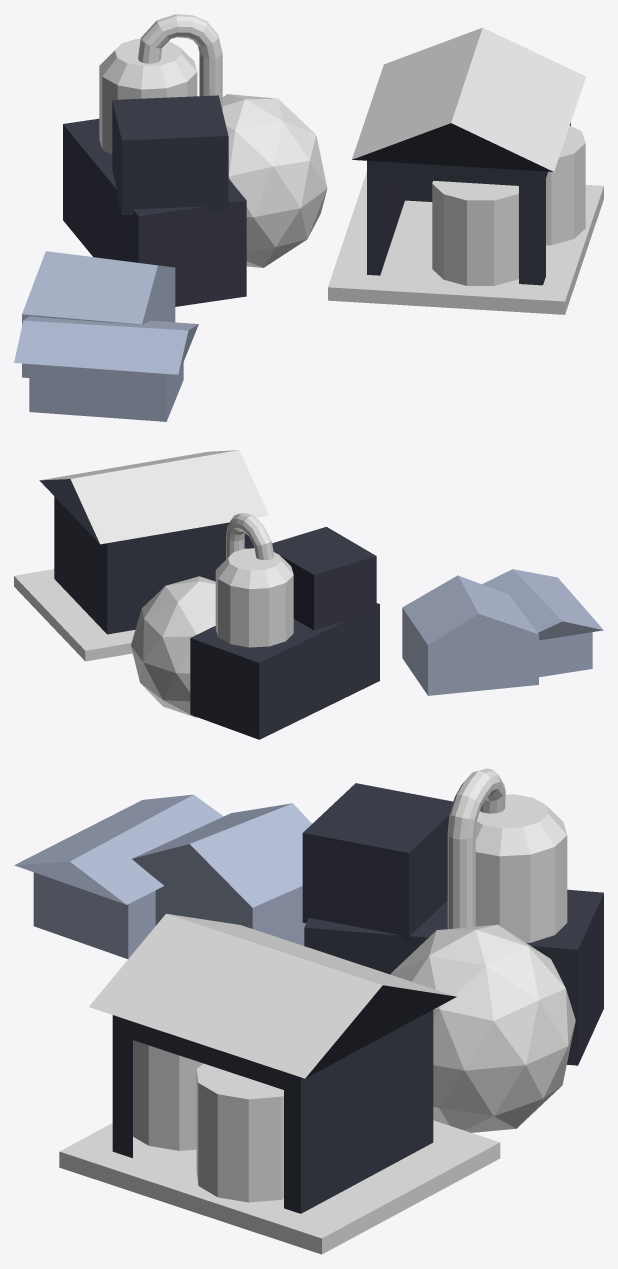
The model's file is lab.glb.
3 renders of one model, top to bottom at view 1: azimuth 30°, elevation 25°; view 2: azimuth 150°, elevation 25°; view 3: azimuth 270°, elevation 25°, orthographic. The views are drawn at different scales.
Parts seen in each view (by area): view 1: Cube.024, Cube.023, Cube.025, Cube.027, Cube.026, Icosphere, Cube.022, Cylinder.004, Cylinder.001, Cylinder.005, Cylinder.002; view 2: Cube.024, Cube.023, Cube.022, Cube.026, Icosphere, Cylinder.001, Cube.025, Cube.027, Cylinder.002; view 3: Cube.024, Icosphere, Cube.027, Cube.026, Cube.025, Cube.022, Cylinder.001, Cube.023, Cylinder.005, Cylinder.004, Cylinder.002.
Part boxes in pixels (x1,y1,x2,y2): Cube.024: (352, 27, 585, 285); Cube.023: (63, 118, 246, 306); Cube.025: (14, 316, 198, 421); Cube.027: (328, 172, 603, 314); Cube.026: (112, 95, 228, 214); Icosphere: (222, 94, 327, 267); Cube.022: (22, 251, 175, 377); Cylinder.004: (432, 180, 518, 285); Cylinder.001: (99, 38, 197, 154); Cylinder.005: (546, 126, 585, 245); Cylinder.002: (138, 14, 222, 110); Cube.024: (39, 450, 268, 634); Cube.023: (190, 603, 379, 739); Cube.022: (402, 575, 538, 695); Cube.026: (272, 527, 376, 630); Icosphere: (131, 576, 215, 717); Cylinder.001: (215, 548, 293, 647); Cube.025: (482, 569, 603, 677); Cube.027: (14, 569, 135, 661); Cylinder.002: (226, 513, 274, 560); Cube.024: (89, 913, 456, 1213); Icosphere: (390, 924, 575, 1132); Cube.027: (59, 1120, 500, 1254); Cube.026: (302, 783, 452, 942); Cube.025: (14, 794, 223, 958); Cube.022: (132, 803, 311, 945); Cylinder.001: (475, 794, 567, 942); Cube.023: (304, 889, 603, 1065); Cylinder.005: (196, 1063, 283, 1202); Cylinder.004: (133, 1040, 203, 1150); Cylinder.002: (447, 768, 505, 928).
Bounding box in the file's own units: 19.28 × 7.3 × 12.3.
